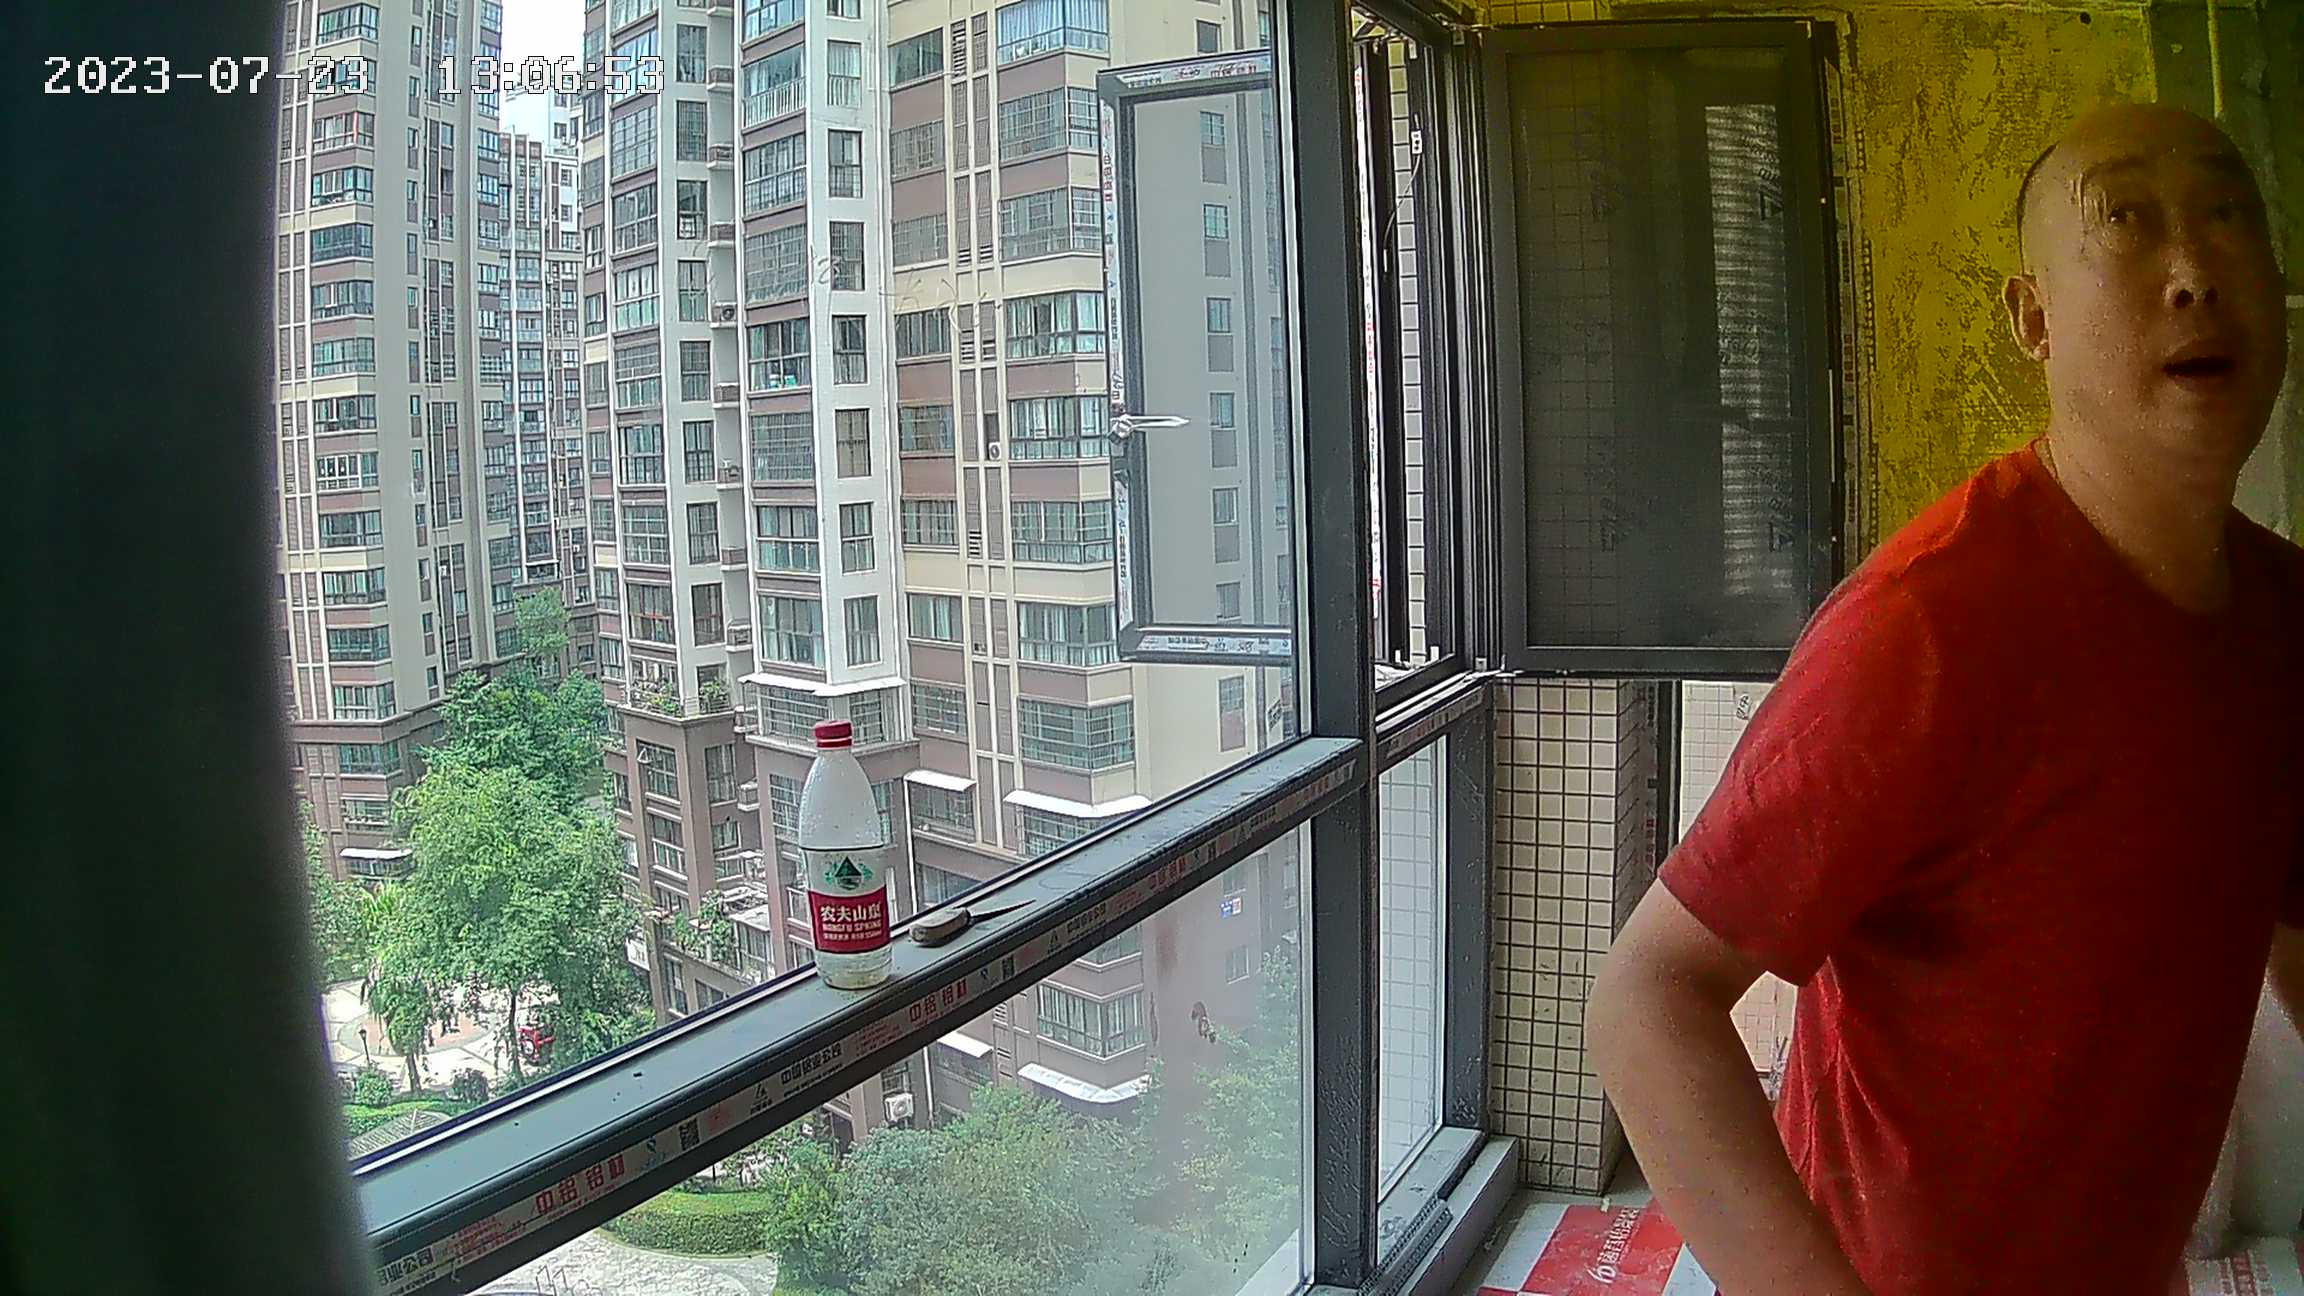people: (1575, 101, 2304, 1283)
window: (277, 4, 1514, 1286)
